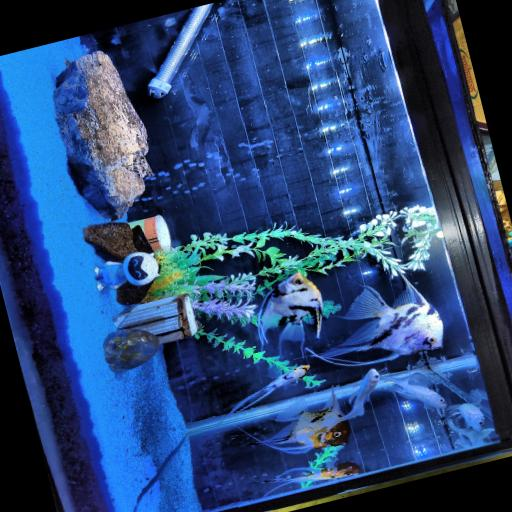Fish: (307, 275, 442, 365), (249, 391, 348, 452), (260, 272, 321, 342), (227, 364, 309, 415), (264, 462, 359, 494), (382, 372, 446, 408), (341, 368, 379, 420), (444, 389, 486, 430), (446, 418, 493, 447)
